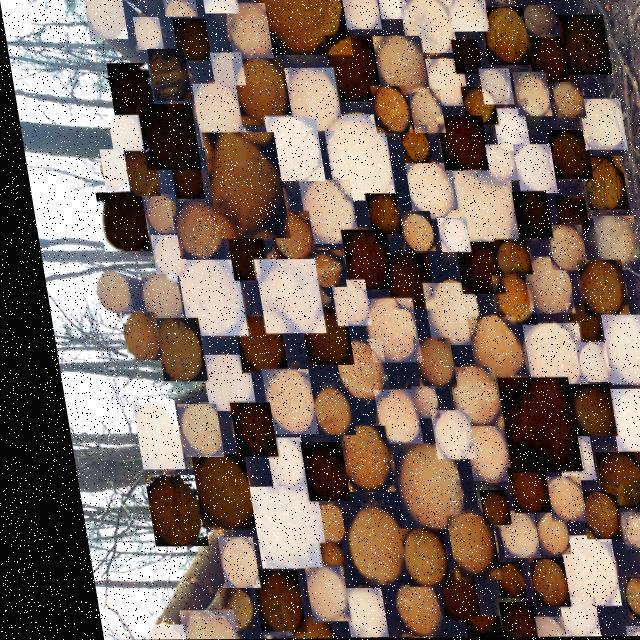wood-log: (197, 133, 283, 239), (485, 378, 569, 472), (233, 487, 310, 569), (319, 115, 392, 201), (376, 444, 449, 530), (323, 506, 391, 586), (256, 0, 353, 56), (168, 260, 238, 336), (246, 259, 315, 334), (445, 171, 513, 244), (176, 455, 238, 531), (511, 324, 576, 396), (540, 536, 602, 609), (128, 475, 190, 547), (134, 104, 196, 170), (230, 60, 290, 128), (260, 117, 320, 182), (292, 180, 352, 244), (323, 36, 379, 103), (413, 283, 472, 346), (325, 426, 381, 492), (457, 317, 513, 383), (353, 299, 410, 363), (282, 68, 339, 131), (249, 370, 304, 435), (119, 400, 170, 470), (189, 84, 244, 148), (590, 316, 640, 386), (429, 517, 482, 581), (595, 389, 640, 463), (436, 367, 491, 427), (556, 15, 610, 76), (233, 571, 286, 633), (143, 318, 195, 381), (322, 339, 377, 398), (333, 230, 387, 290), (89, 192, 142, 252), (289, 307, 342, 366), (371, 37, 426, 93), (399, 0, 456, 54), (479, 8, 532, 66), (580, 453, 634, 509), (189, 355, 243, 411), (399, 164, 453, 220), (165, 202, 218, 259), (223, 317, 276, 373), (285, 442, 334, 502), (432, 116, 485, 171), (514, 257, 565, 314), (382, 529, 432, 587), (375, 254, 426, 310), (568, 261, 619, 317), (451, 426, 500, 482), (373, 584, 423, 637), (225, 3, 272, 59), (447, 242, 496, 295), (360, 390, 408, 444), (104, 63, 152, 116), (576, 157, 623, 211), (216, 403, 263, 457), (585, 217, 633, 269), (575, 100, 623, 152), (555, 385, 603, 437), (163, 405, 209, 459), (285, 568, 330, 622), (261, 211, 308, 261), (146, 49, 191, 101), (543, 131, 589, 180), (525, 37, 571, 85), (482, 276, 527, 325), (323, 588, 367, 638), (416, 411, 460, 460), (219, 231, 262, 281), (199, 537, 241, 588), (401, 339, 444, 388), (508, 145, 551, 194), (423, 59, 466, 107), (299, 387, 341, 436), (509, 558, 551, 607), (251, 438, 292, 488), (480, 511, 522, 559), (418, 573, 460, 621), (563, 492, 605, 540), (367, 87, 409, 134), (110, 312, 150, 361), (492, 468, 534, 514), (505, 193, 545, 241), (131, 274, 173, 319), (537, 226, 579, 271), (529, 477, 570, 522), (321, 280, 361, 326), (84, 0, 128, 40), (115, 151, 154, 196), (510, 73, 549, 118), (541, 437, 580, 481), (159, 610, 216, 640), (405, 89, 442, 134), (84, 270, 123, 312), (172, 19, 210, 61), (142, 235, 180, 276), (603, 578, 640, 620), (199, 588, 235, 631), (554, 304, 592, 344), (517, 513, 553, 555), (104, 115, 142, 154), (539, 600, 579, 637), (391, 212, 428, 252), (478, 602, 519, 638), (359, 194, 395, 235), (602, 513, 639, 551), (458, 87, 495, 125), (564, 343, 599, 383), (488, 109, 525, 146), (301, 250, 338, 287), (139, 194, 174, 233), (165, 159, 199, 199), (447, 0, 489, 32), (486, 240, 524, 275), (94, 149, 124, 192), (476, 69, 511, 105), (394, 126, 427, 164), (548, 197, 582, 233), (549, 83, 583, 119), (481, 146, 515, 182), (429, 218, 463, 253), (208, 53, 243, 86), (343, 0, 381, 30), (462, 491, 494, 526), (476, 563, 506, 599), (522, 6, 555, 38), (449, 40, 480, 74), (132, 17, 163, 50), (398, 387, 426, 419), (270, 618, 312, 639), (301, 544, 327, 574), (444, 617, 481, 638), (123, 625, 164, 640), (378, 0, 408, 20), (514, 617, 544, 637), (627, 549, 640, 595), (163, 0, 197, 17), (629, 500, 640, 552), (203, 0, 239, 14), (604, 627, 631, 637), (634, 603, 640, 637), (242, 632, 271, 639), (488, 0, 516, 7)
